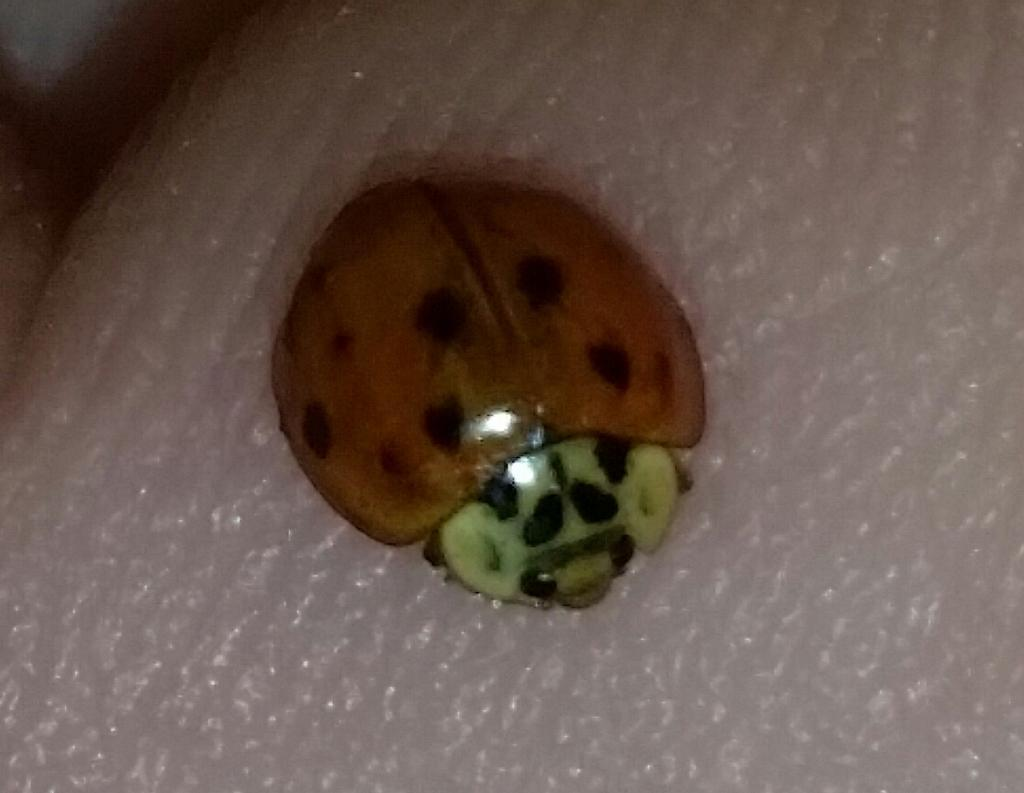ladybug: (265, 163, 711, 613)
